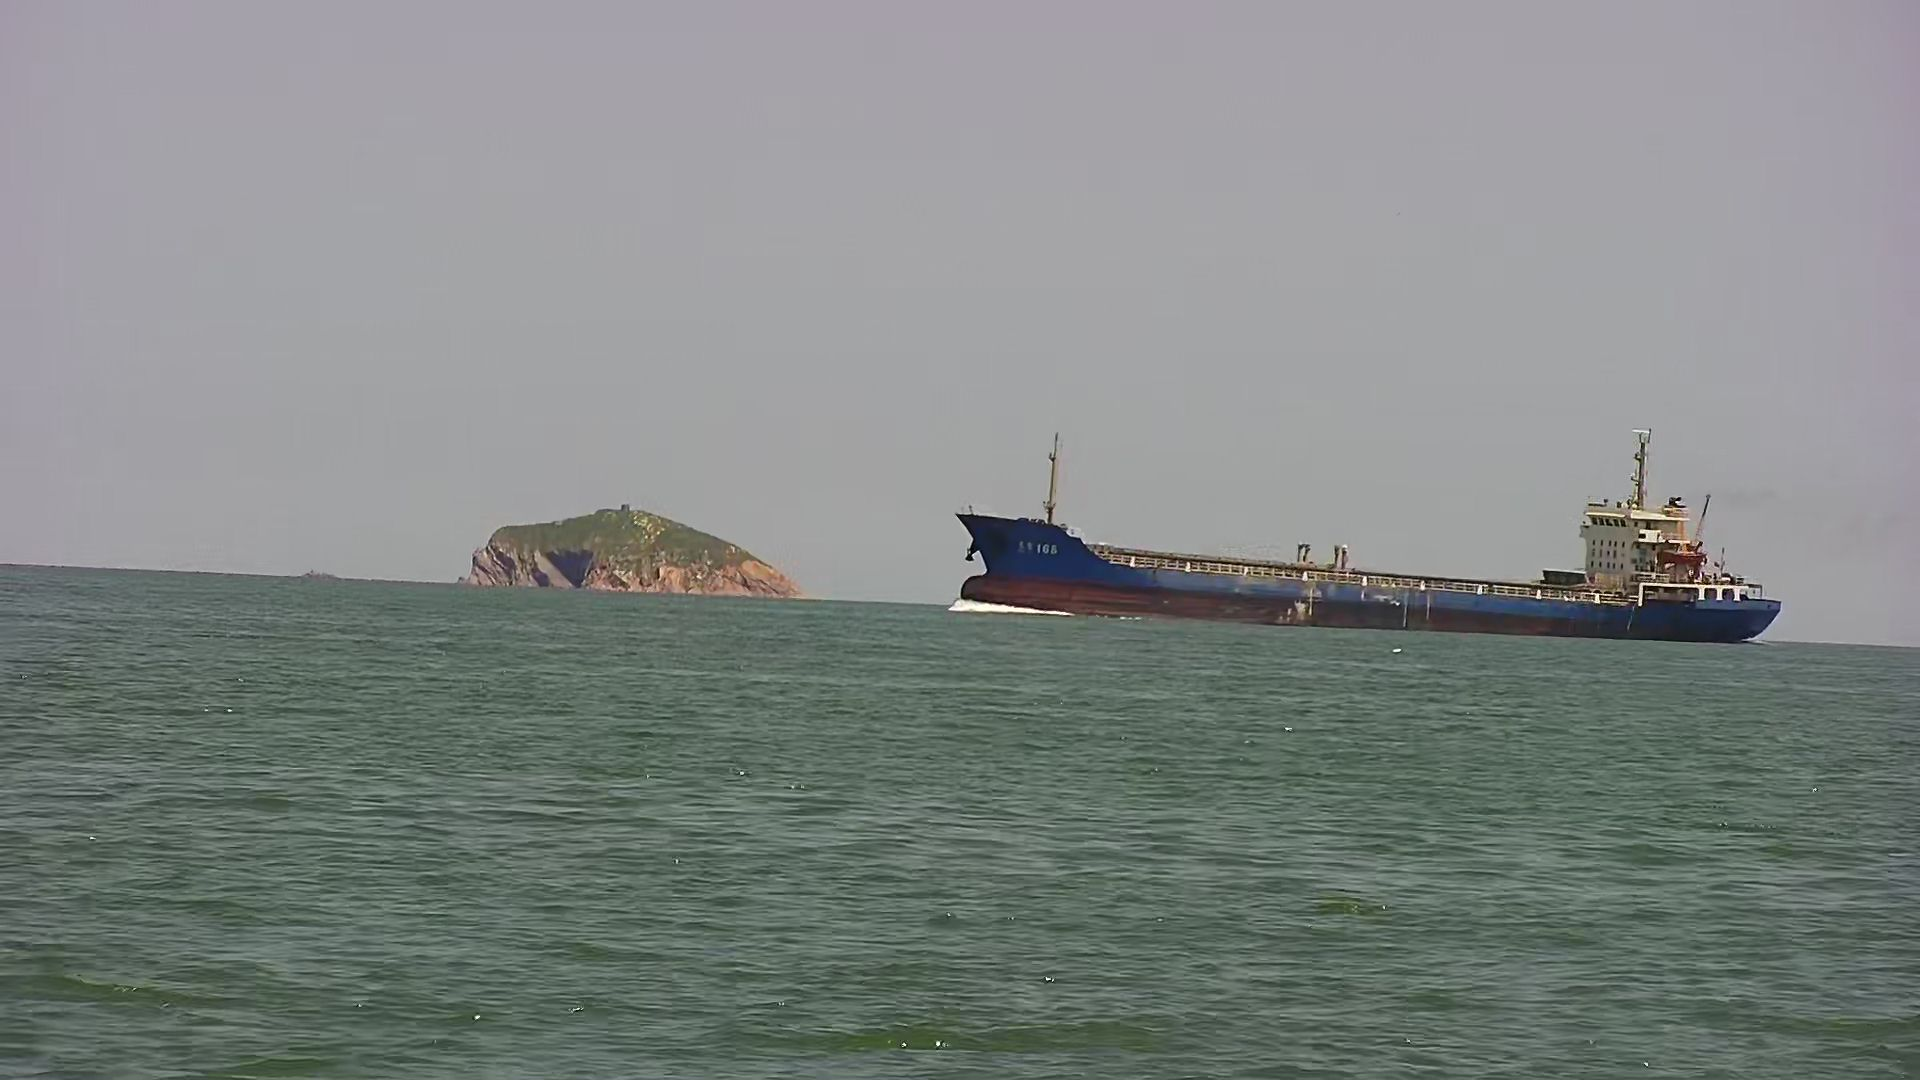rock: (447, 458, 820, 620)
ship: (939, 429, 1793, 640)
